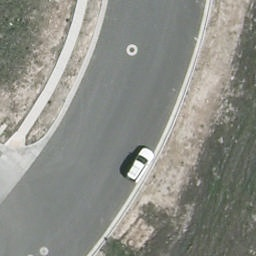car: (126, 148, 156, 182)
